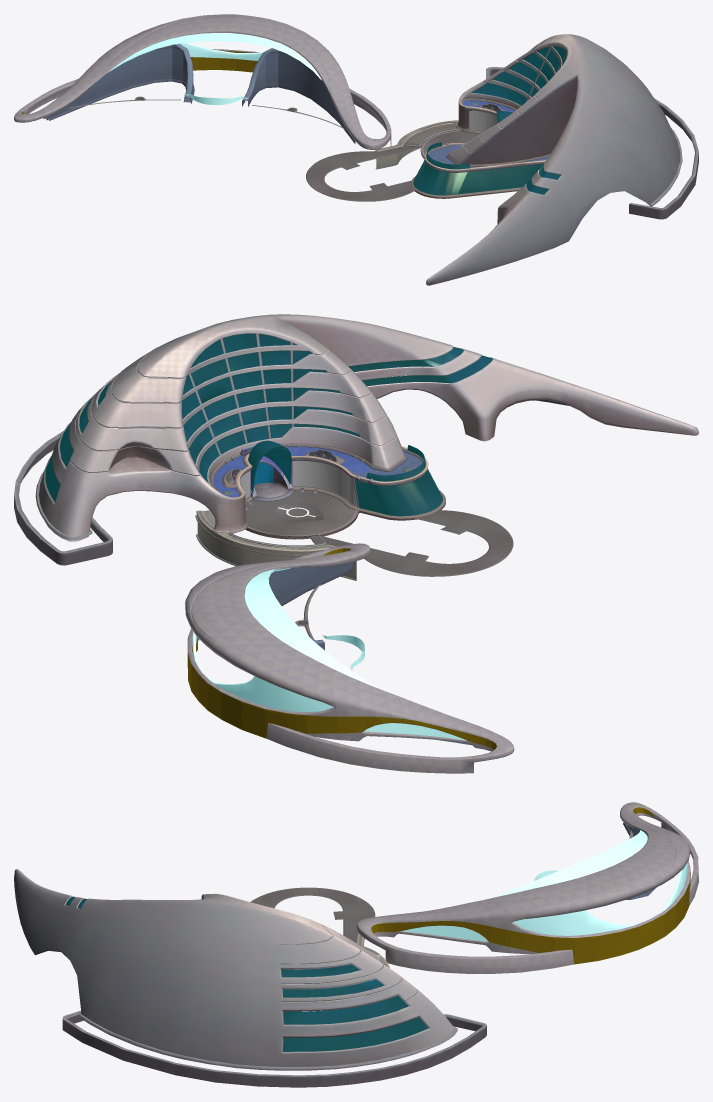
Rendered from pref_sm_beach_bk_pointmol_leftbuild01d_lv2.fbx.
3 renders of one model, top to bottom at view 1: azimuth 30°, elevation 25°; view 2: azimuth 150°, elevation 25°; view 3: azimuth 270°, elevation 25°, orthographic. The views are drawn at different scales.
Parts seen in each view (by area): view 1: sm_beach_bk_pointmol_leftbuild01a_lv2, sm_beach_bk_pointmol_leftbuild02b_lv2, sm_beach_bk_pointmol_leftbuild02c_lv2, sm_beach_bk_pointmol_leftbuild01b_lv2, sm_beach_bk_pointmol_leftbuild01f_lv2, sm_beach_bk_pointmol_leftbuild02e_lv2, sm_beach_bk_pointmol_leftbuild02f_lv2, sm_beach_bk_pointmol_leftbuild01i_lv2, sm_beach_bk_pointmol_leftbuild01c_lv2; view 2: sm_beach_bk_pointmol_leftbuild01a_lv2, sm_beach_bk_pointmol_leftbuild02b_lv2, sm_beach_bk_pointmol_leftbuild01b_lv2, sm_beach_bk_pointmol_leftbuild02c_lv2, sm_beach_bk_pointmol_leftbuild02e_lv2, sm_beach_bk_pointmol_leftbuild01f_lv2, sm_beach_bk_pointmol_leftbuild02f_lv2, sm_beach_bk_pointmol_leftbuild01i_lv2, sm_beach_bk_pointmol_leftbuild01c_lv2, sm_beach_bk_pointmol_leftbuild01e_lv2; view 3: sm_beach_bk_pointmol_leftbuild01a_lv2, sm_beach_bk_pointmol_leftbuild02b_lv2, sm_beach_bk_pointmol_leftbuild01b_lv2, sm_beach_bk_pointmol_leftbuild02c_lv2, sm_beach_bk_pointmol_leftbuild02e_lv2, sm_beach_bk_pointmol_leftbuild01f_lv2.
Part boxes in pixels (<box>): sm_beach_bk_pointmol_leftbuild01a_lv2: <box>411,34,698,285</box>; sm_beach_bk_pointmol_leftbuild02b_lv2: <box>14,14,391,149</box>; sm_beach_bk_pointmol_leftbuild02c_lv2: <box>21,43,355,143</box>; sm_beach_bk_pointmol_leftbuild01b_lv2: <box>413,46,566,195</box>; sm_beach_bk_pointmol_leftbuild01f_lv2: <box>306,143,421,201</box>; sm_beach_bk_pointmol_leftbuild02e_lv2: <box>108,33,321,104</box>; sm_beach_bk_pointmol_leftbuild02f_lv2: <box>375,120,459,169</box>; sm_beach_bk_pointmol_leftbuild01i_lv2: <box>423,131,479,154</box>; sm_beach_bk_pointmol_leftbuild01c_lv2: <box>469,110,497,131</box>; sm_beach_bk_pointmol_leftbuild01a_lv2: <box>14,314,698,565</box>; sm_beach_bk_pointmol_leftbuild02b_lv2: <box>185,543,514,773</box>; sm_beach_bk_pointmol_leftbuild01b_lv2: <box>45,333,492,516</box>; sm_beach_bk_pointmol_leftbuild02c_lv2: <box>187,548,496,749</box>; sm_beach_bk_pointmol_leftbuild02e_lv2: <box>192,567,466,740</box>; sm_beach_bk_pointmol_leftbuild01f_lv2: <box>310,510,513,576</box>; sm_beach_bk_pointmol_leftbuild02f_lv2: <box>195,510,356,580</box>; sm_beach_bk_pointmol_leftbuild01i_lv2: <box>245,490,355,535</box>; sm_beach_bk_pointmol_leftbuild01c_lv2: <box>239,460,357,505</box>; sm_beach_bk_pointmol_leftbuild01e_lv2: <box>274,502,320,521</box>; sm_beach_bk_pointmol_leftbuild01a_lv2: <box>14,869,486,1087</box>; sm_beach_bk_pointmol_leftbuild02b_lv2: <box>356,802,698,973</box>; sm_beach_bk_pointmol_leftbuild01b_lv2: <box>65,897,428,1051</box>; sm_beach_bk_pointmol_leftbuild02c_lv2: <box>371,807,690,964</box>; sm_beach_bk_pointmol_leftbuild02e_lv2: <box>402,830,687,941</box>; sm_beach_bk_pointmol_leftbuild01f_lv2: <box>250,887,375,942</box>.
Bounding box in the file's own units: 85.69 × 19.35 × 90.35.
